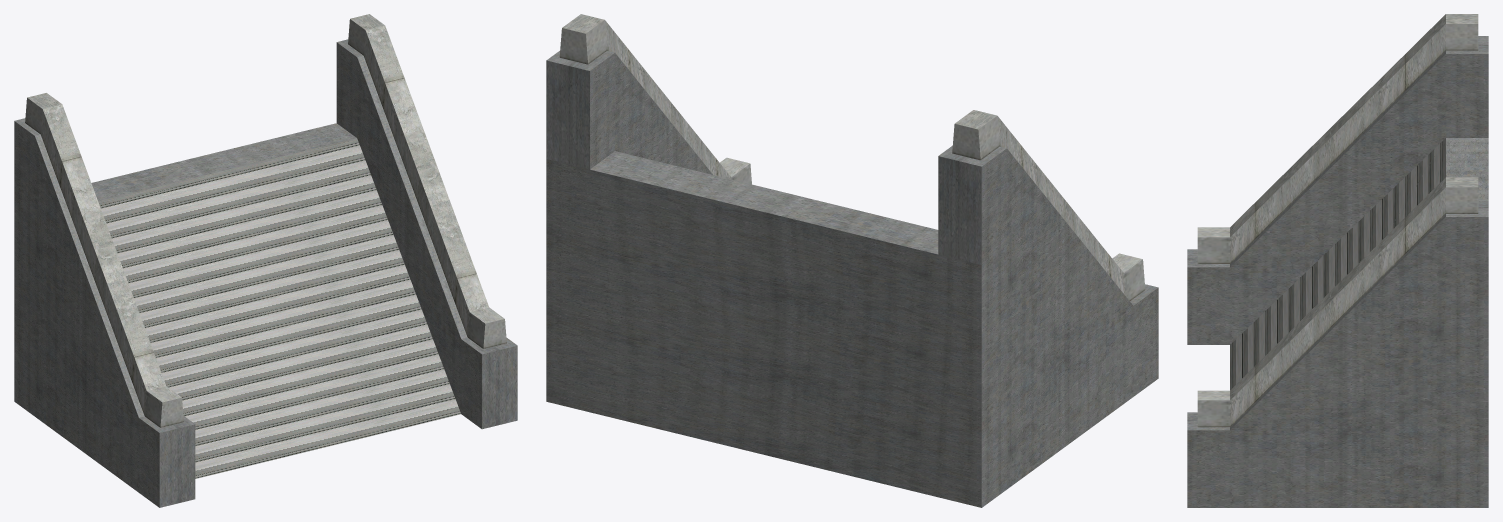
File: thm_corl_imprv_stair_small_s01_l1.fbx
The picture shows the model from 3 angles, left to right: view 1: azimuth 30°, elevation 25°; view 2: azimuth 150°, elevation 25°; view 3: azimuth 270°, elevation 25°; orthographic projection. The views are drawn at different scales.
Visible parts, largest first — view 1: mesh_node; view 2: mesh_node; view 3: mesh_node.
Part boxes in pixels (x1,y1,x2,y2): mesh_node: (14, 14, 517, 507); mesh_node: (546, 14, 1158, 507); mesh_node: (1187, 14, 1488, 507).
Bounding box in the file's own units: 7.5 × 6.12 × 5.27.
